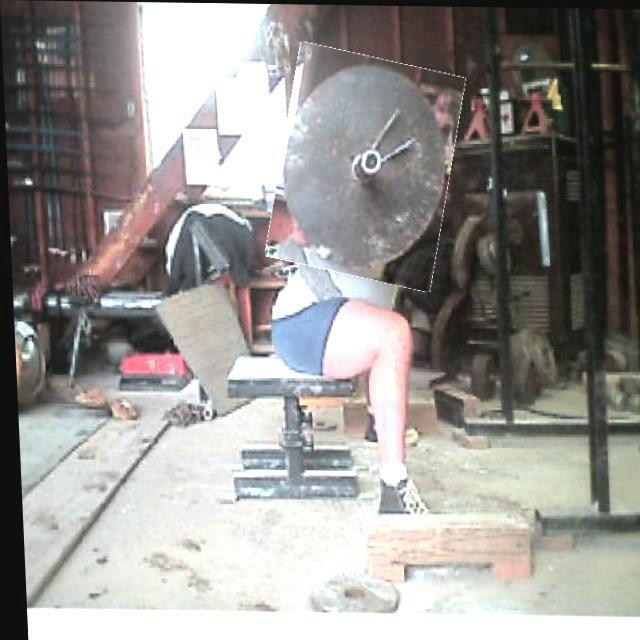barbell: (267, 48, 462, 285)
